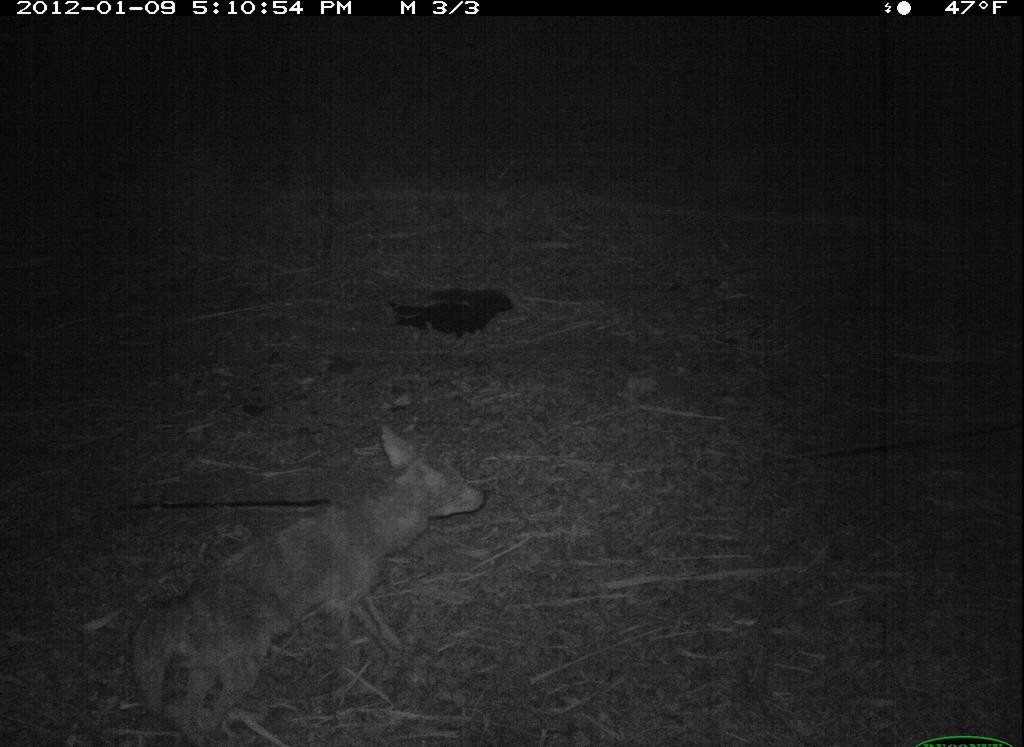coyote: (107, 417, 492, 747)
